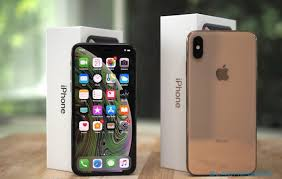iphone: (186, 29, 258, 175), (69, 41, 137, 175)
iphone10: (186, 29, 258, 175), (69, 41, 137, 175)
